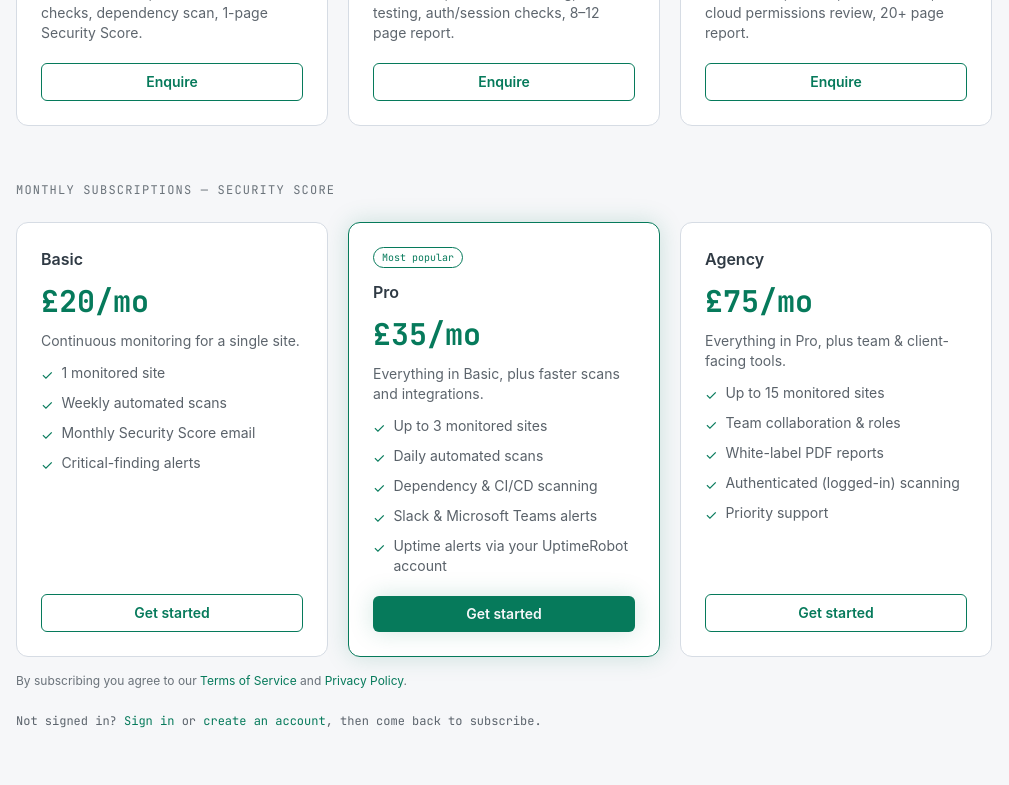
it: pricing page checkout › asks a signed-out visitor to sign in first
(page scrolled)
Click the button "Get started" below "Critical-finding alerts": (172, 613) [41, 594, 303, 632]
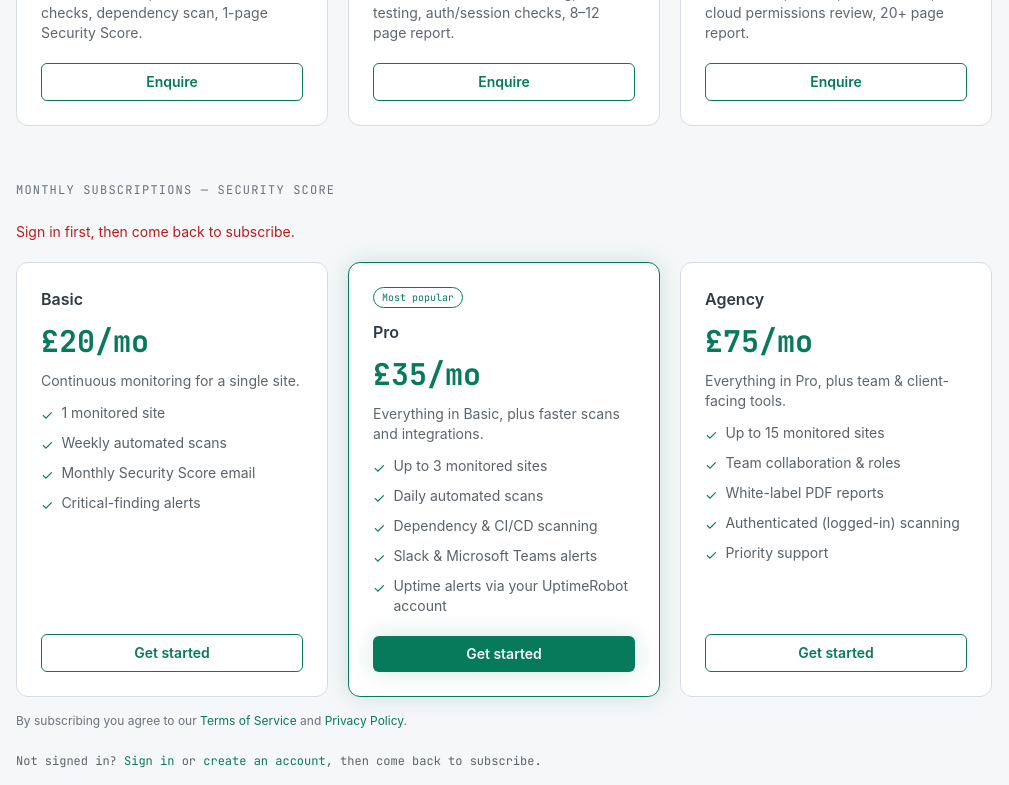
Now the message shows "Sign in first", box [16, 223, 295, 240]
